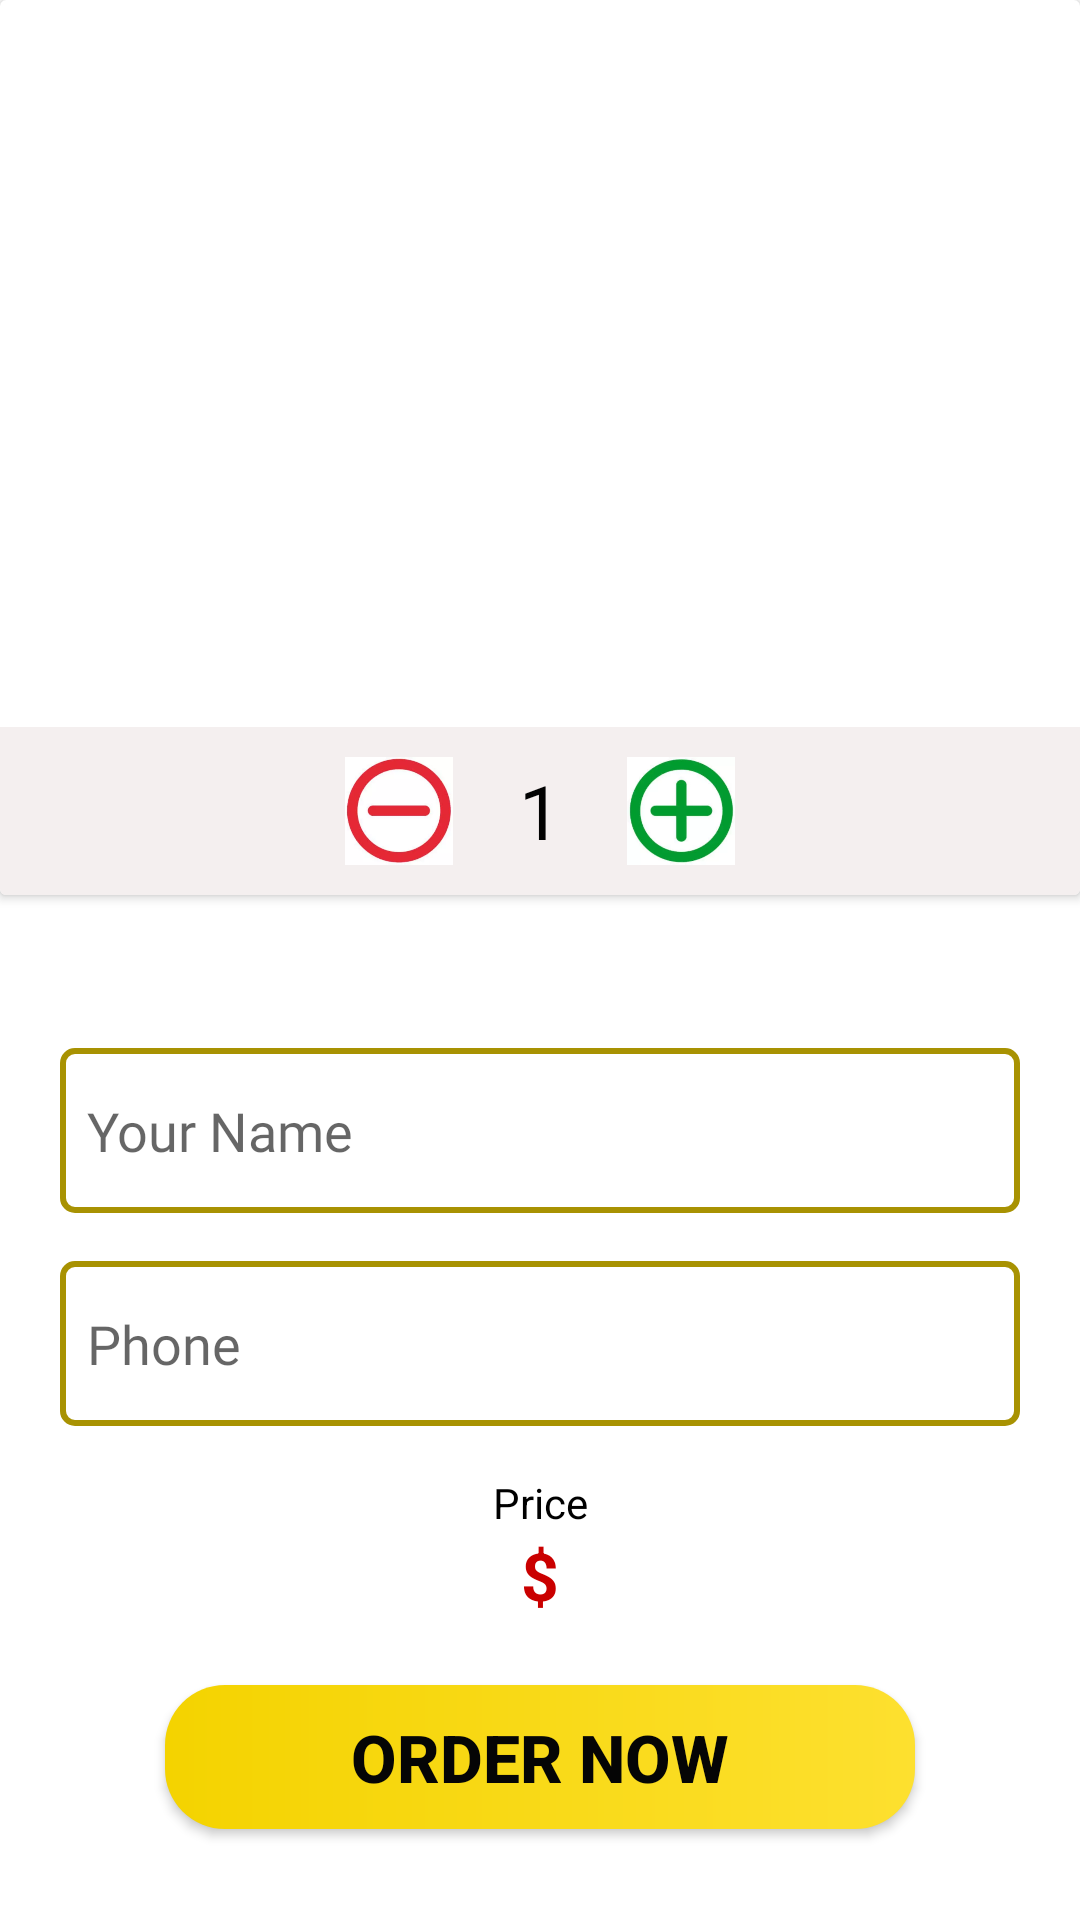

Screen size 1080×1920. Icon name, then its box in pixels as (x1, y1, x2, y2):
add: (627, 757, 735, 865)
sub: (345, 757, 453, 865)
